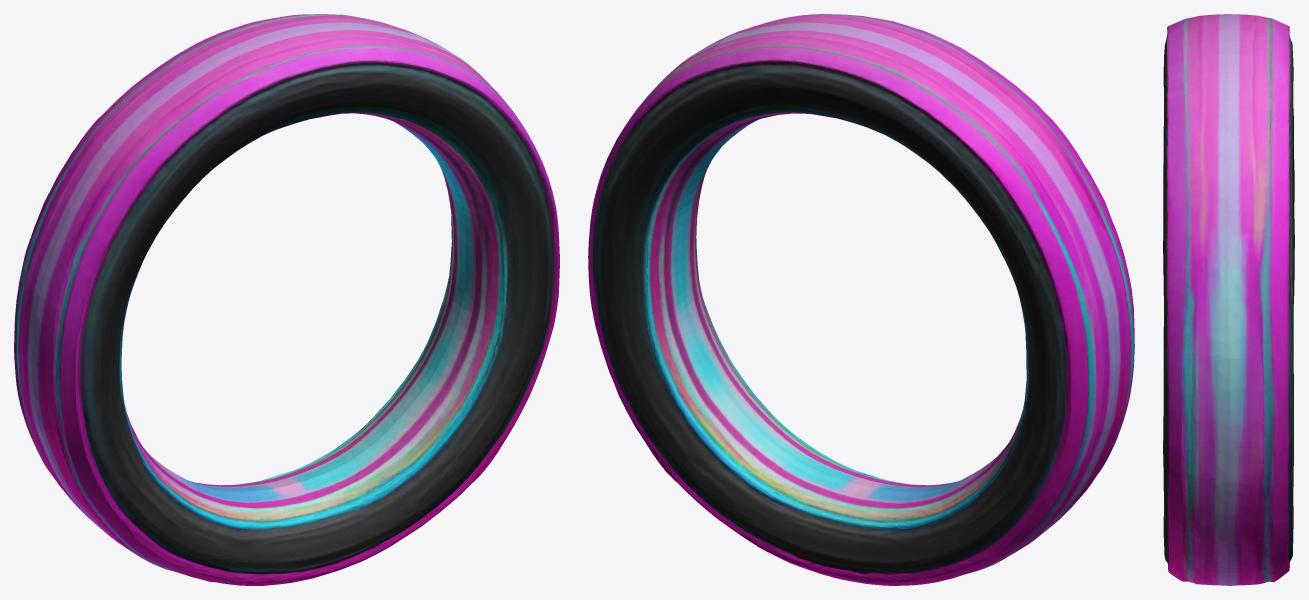
The model's file is ring.glb.
The picture shows the model from 3 angles, left to right: view 1: azimuth 30°, elevation 25°; view 2: azimuth 150°, elevation 25°; view 3: azimuth 270°, elevation 25°; orthographic projection. The views are drawn at different scales.
Parts seen in each view (by area): view 1: world; view 2: world; view 3: world.
Part boxes in pixels (<box>): world: <box>14,14,559,585</box>; world: <box>588,14,1134,585</box>; world: <box>1163,14,1294,585</box>.
Bounding box in the file's own units: 0.9986 × 0.9962 × 0.2303.
Materials: 1 (1 with a texture image).
